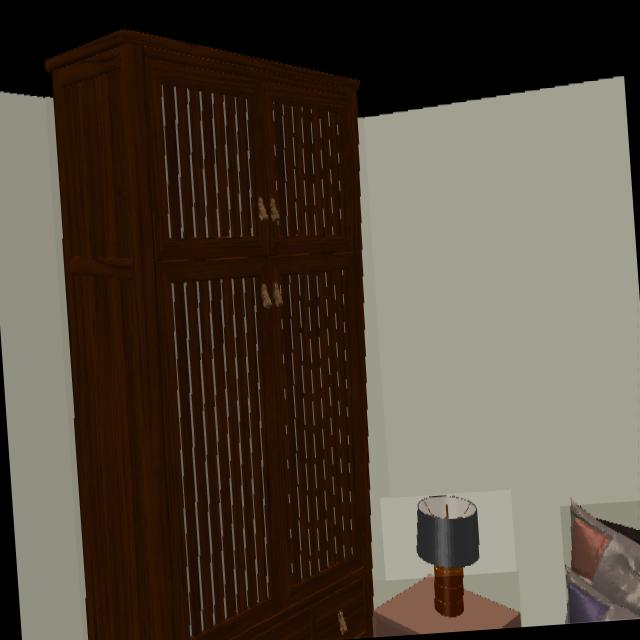lamp: (388, 495, 519, 633)
nighttable: (374, 577, 521, 637)
pillow: (568, 506, 640, 622)
wardrobe: (43, 31, 375, 640)
